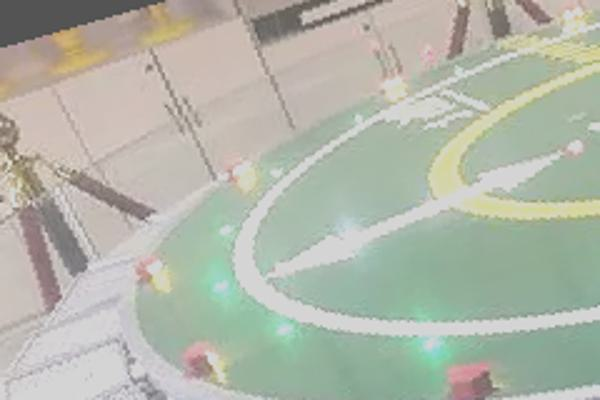Apron: (426, 40, 600, 260)
